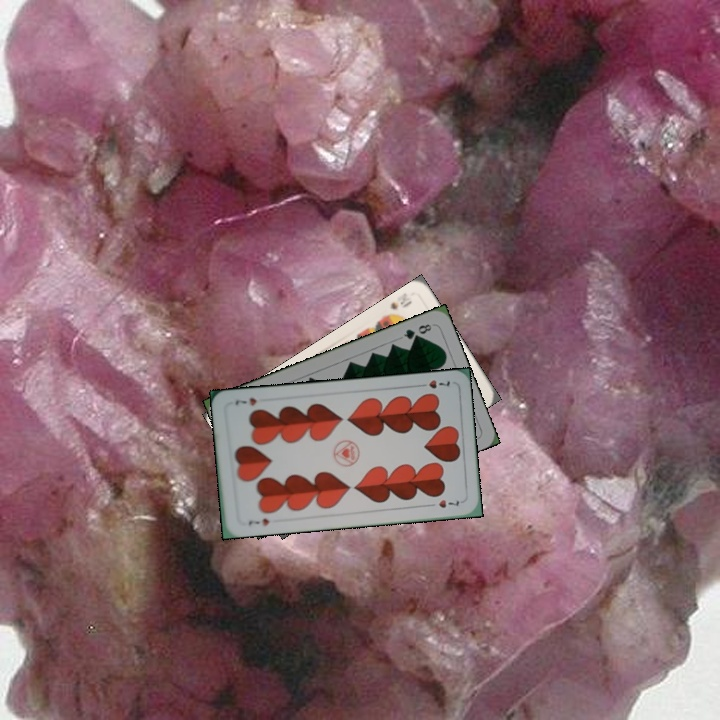G8: (399, 320, 434, 342)
H7: (414, 376, 452, 391), (244, 514, 271, 528)
S10: (381, 289, 414, 320)
